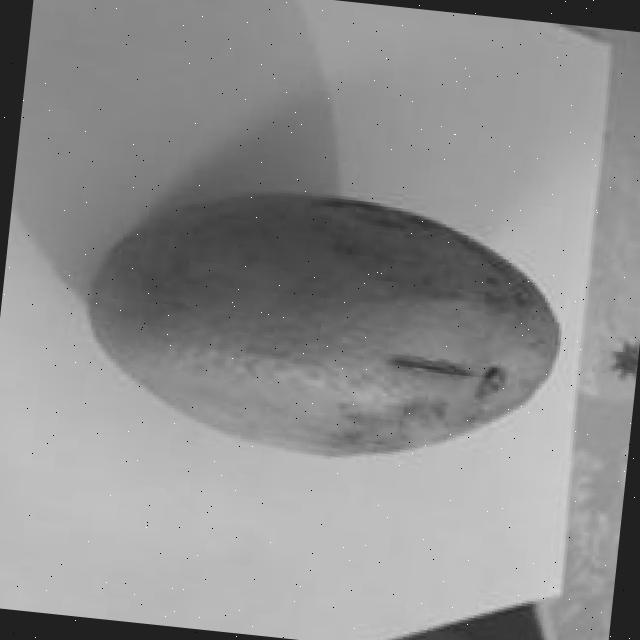overripe: (68, 164, 578, 493)
